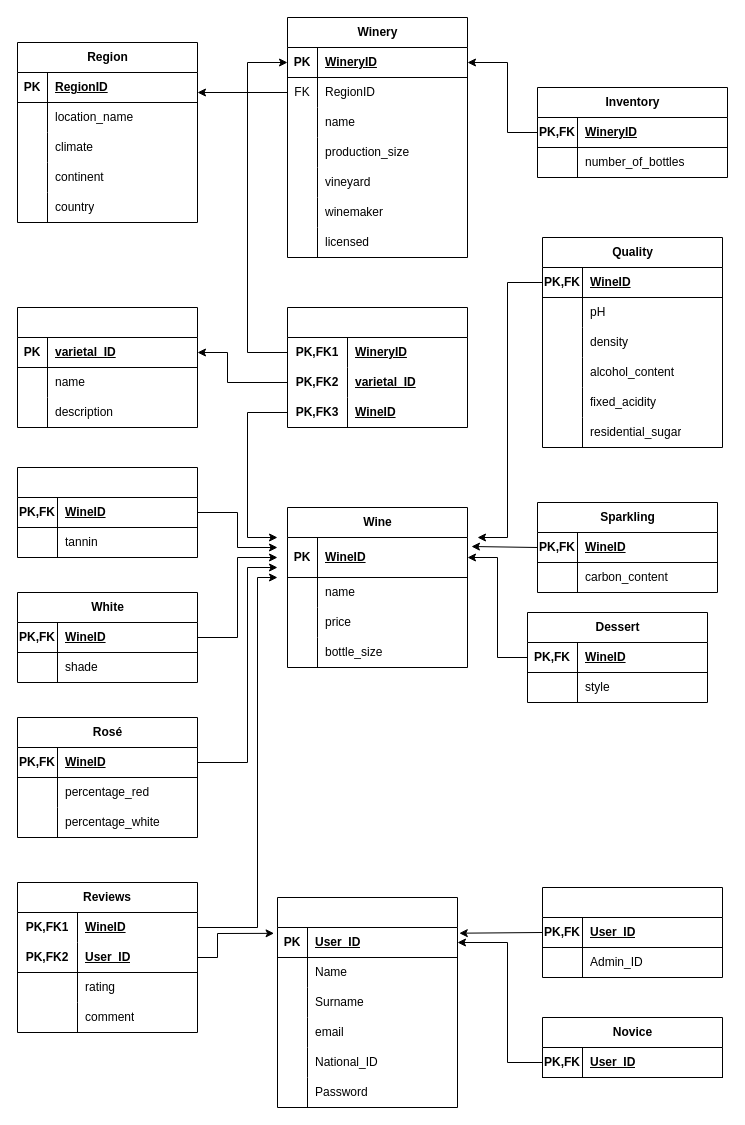
Some shapes in this 745 by 1125 pixel diagram are drawn without their labels. The shapes that lost their labels are listed below. From the top down, each one's box as (x1, y1, x2, y2) in pixels, then its label:
(16, 306, 198, 428): Grape_Varietal
(286, 306, 468, 428): Produces
(16, 466, 198, 558): Red
(542, 886, 722, 978): Admin_User
(276, 896, 458, 1108): Users
